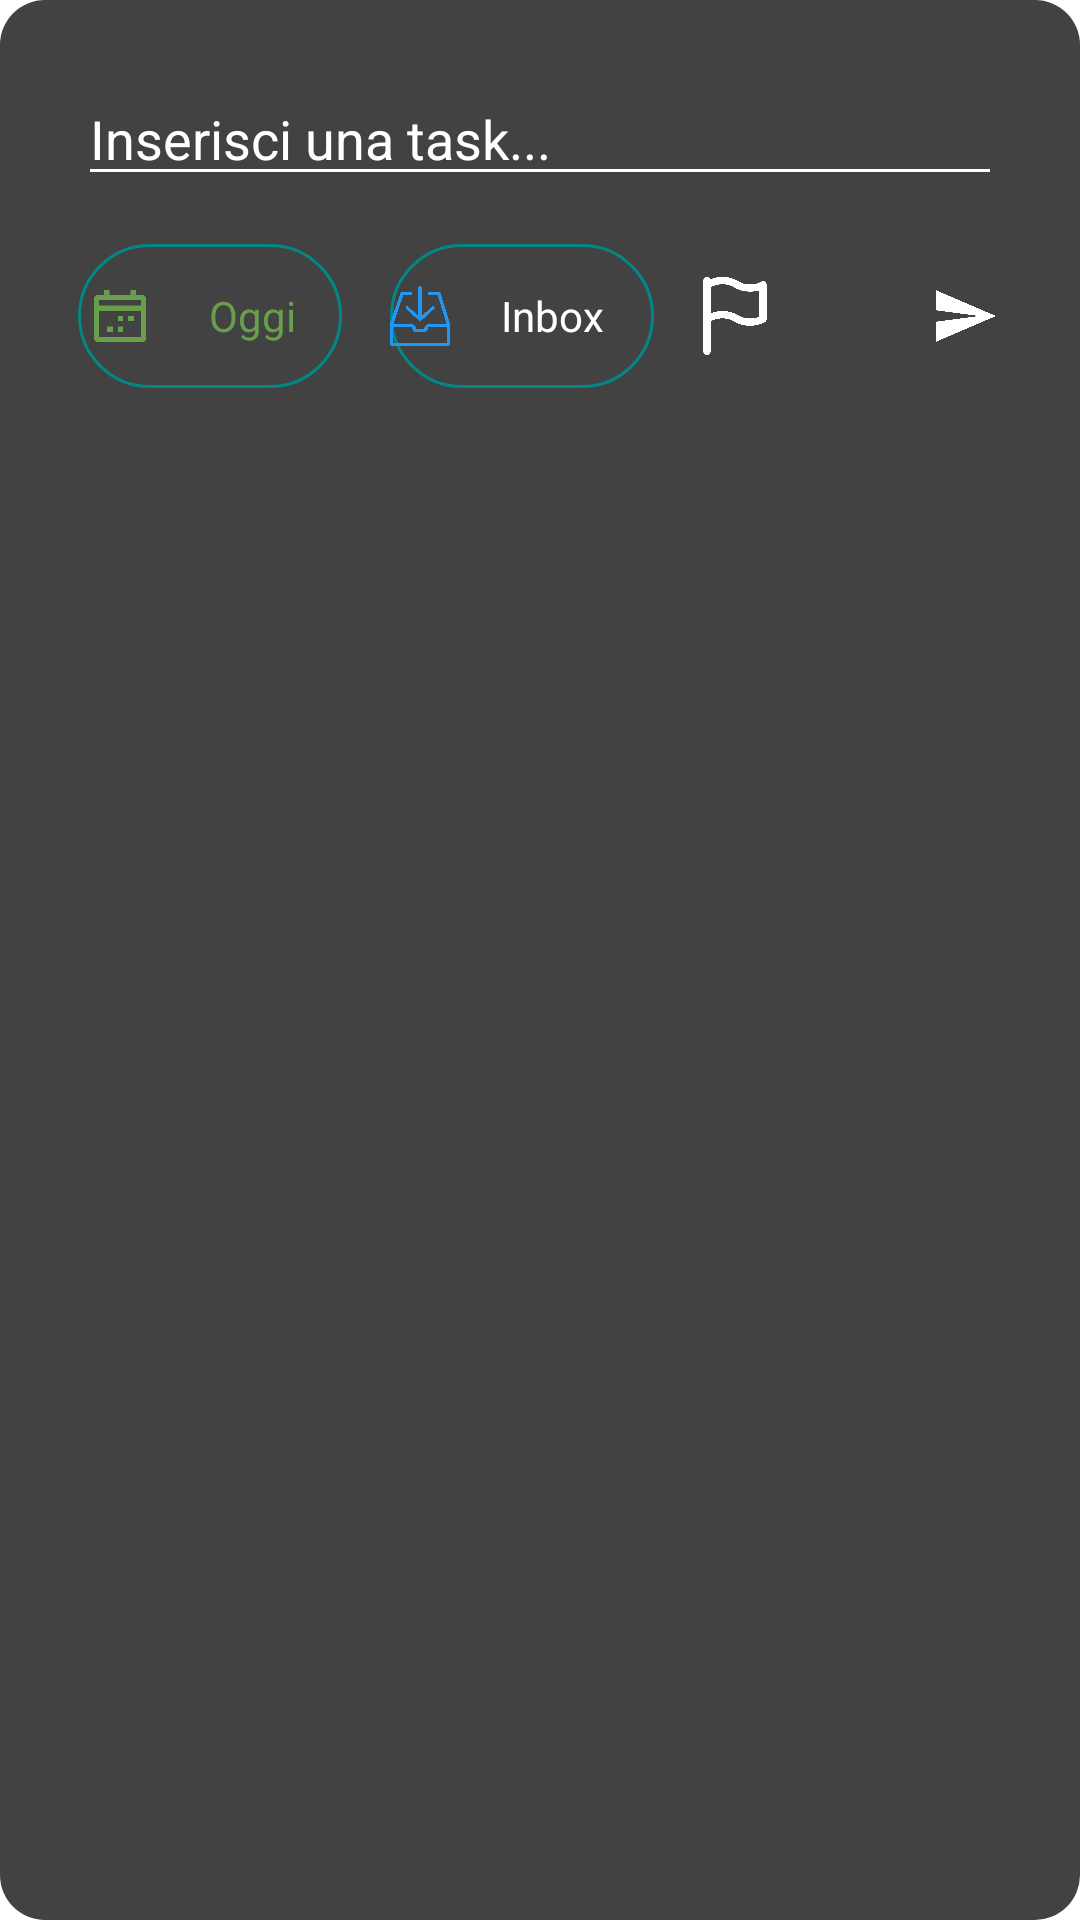

Icons on this 1080w x 1920h Android screen, each with its box as (x1=x1, y1=y1, x2=x2, y2=y2):
flag: (x1=703, y1=277, x2=767, y2=355)
send: (x1=936, y1=290, x2=995, y2=342)
